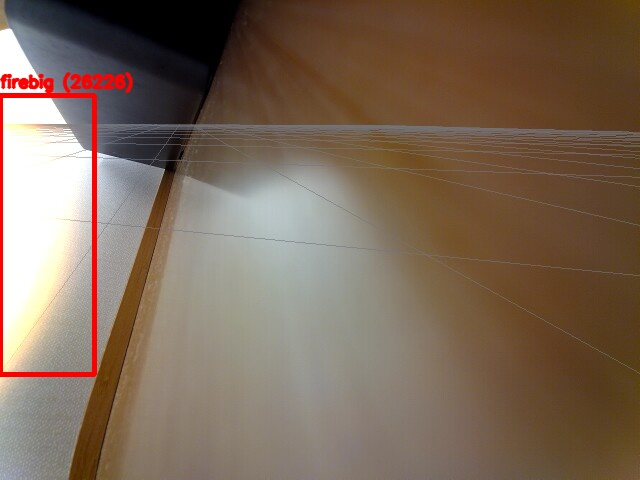firebig: (0, 95, 94, 374)
